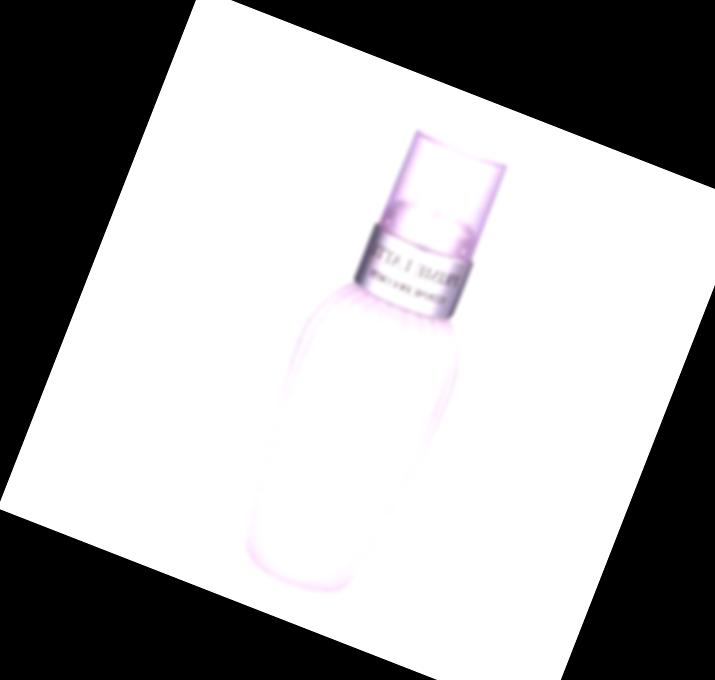cosmetic: (216, 113, 528, 613)
